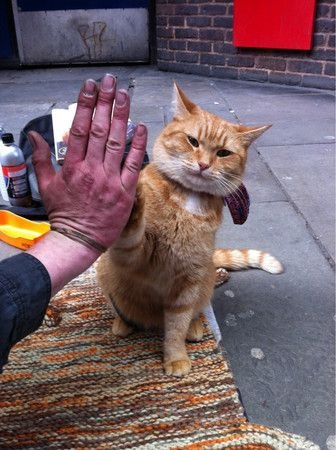cat: (95, 83, 283, 376)
